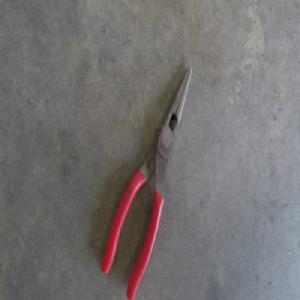Pliers: (101, 66, 192, 291)
